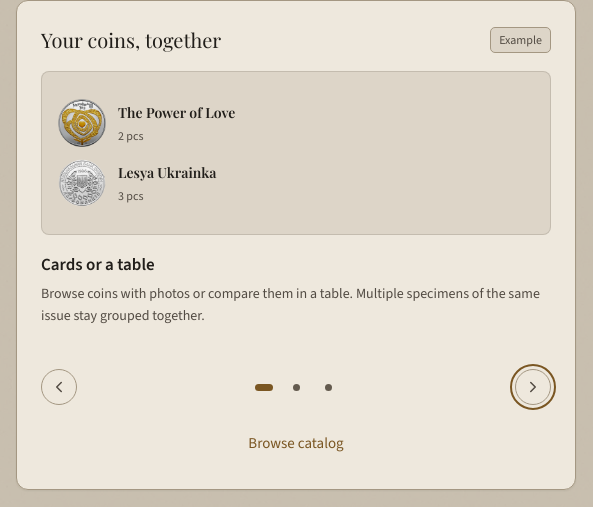
Test: collection onboarding › supports keyboard navigation and direct selection while keeping the action intact
Press Arrowright
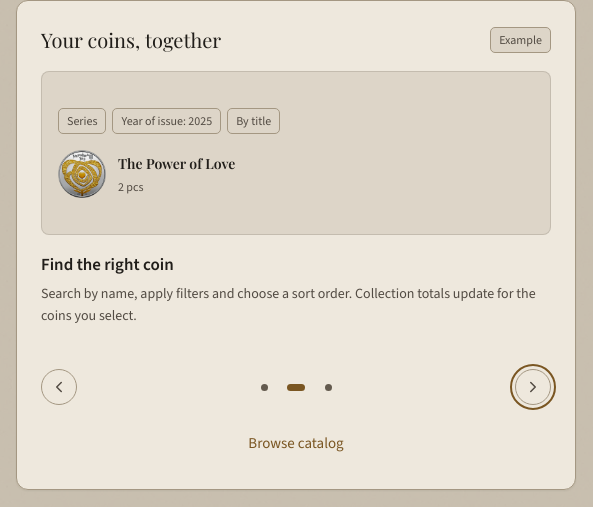
expect the heading "Find the right coin" is shown: met, box [41,253,174,276]
Press End
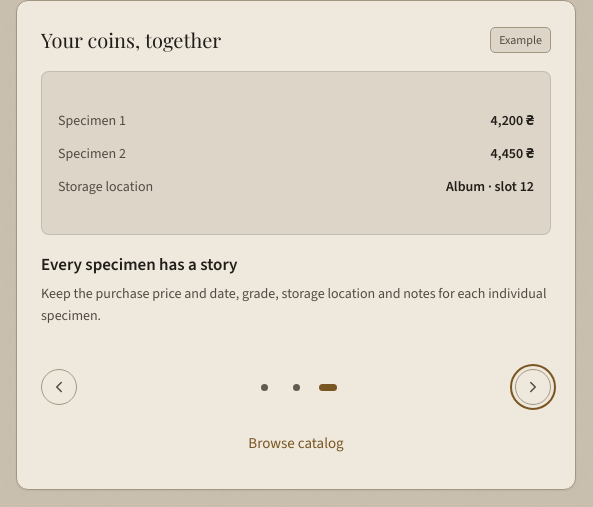
expect the heading "Cards or a table" is not shown: met
expect the button named "Show example 3" is marked as current: met, box [313,369,343,405]
Click the button named "Show example 1" at (264, 387), box [249,369,279,405]
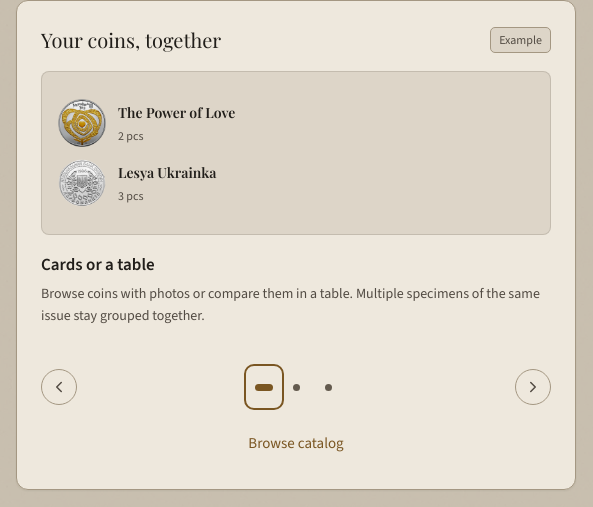
expect the heading "Cards or a table" is shown: met, box [41,253,155,276]
